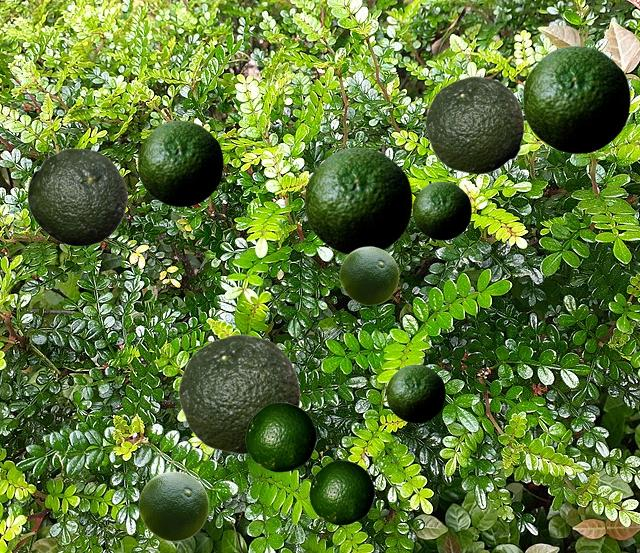calamansi: (178, 334, 299, 453), (522, 45, 629, 153), (304, 147, 411, 255), (27, 148, 127, 245), (425, 76, 523, 173), (137, 120, 222, 206), (245, 402, 316, 471), (138, 471, 208, 540), (309, 460, 374, 524), (339, 246, 398, 304), (412, 181, 470, 239), (386, 364, 444, 422)
